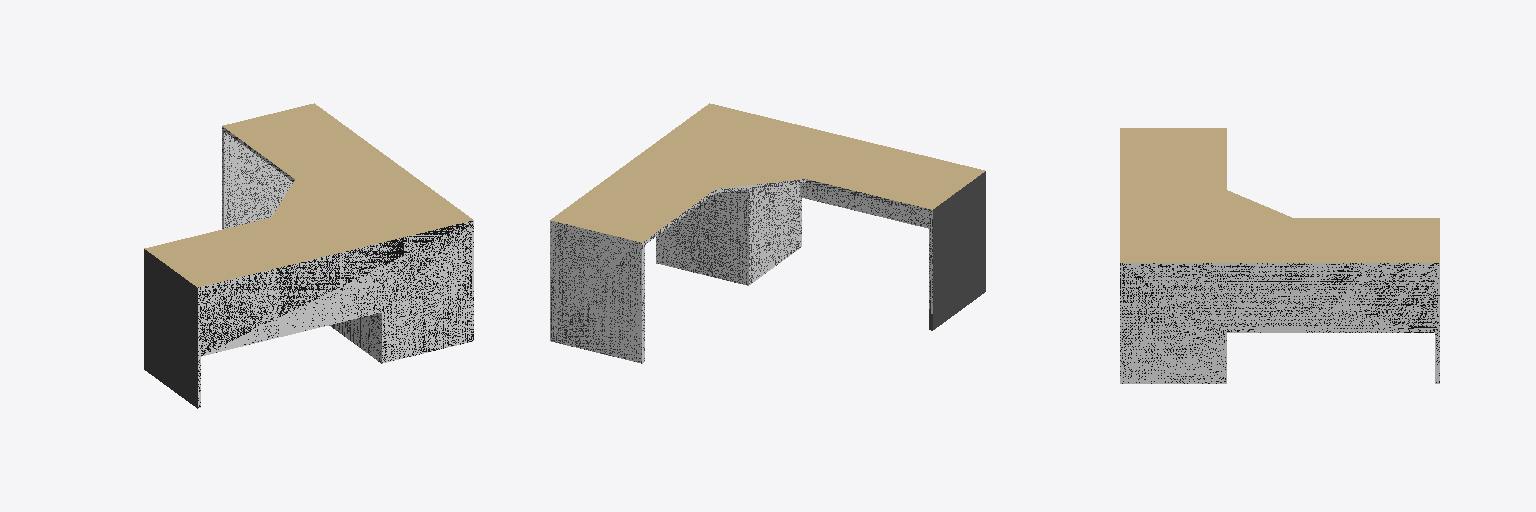
Rendered from officedesk.obj.
The picture shows the model from 3 angles: view 1: azimuth 30°, elevation 25°; view 2: azimuth 150°, elevation 25°; view 3: azimuth 270°, elevation 25°; orthographic projection.
Parts seen in each view (by area): view 1: mesh1_mesh1-geometry; view 2: mesh1_mesh1-geometry; view 3: mesh1_mesh1-geometry.
Boxes of the visible parts, <box> form: mesh1_mesh1-geometry: <box>144,103,473,408</box>; mesh1_mesh1-geometry: <box>550,103,985,363</box>; mesh1_mesh1-geometry: <box>1120,128,1439,383</box>.
Bounding box in the file's own units: 0.6781 × 0.2835 × 0.6781.